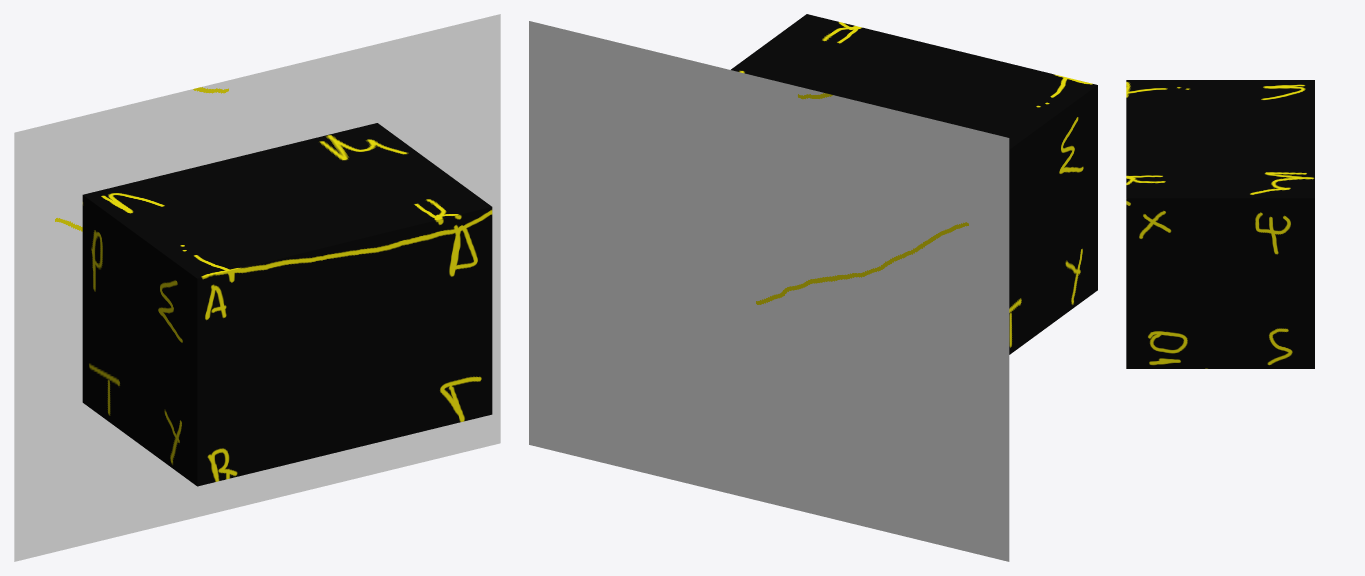
The picture shows the model from 3 angles, left to right: view 1: azimuth 30°, elevation 25°; view 2: azimuth 150°, elevation 25°; view 3: azimuth 270°, elevation 25°; orthographic projection. The views are drawn at different scales.
Parts seen in each view (by area): view 1: mesh_id27, mesh_id1; view 2: mesh_id1, mesh_id27; view 3: mesh_id27.
Part boxes in pixels (x1,y1,x2,y2): mesh_id27: (82,123,492,486); mesh_id1: (14,14,500,561); mesh_id1: (529,21,1009,561); mesh_id27: (731,14,1097,354); mesh_id27: (1126,80,1314,368).
Size of the model in its own units: 0.71 by 0.599 by 0.345.
Materials: 2 (2 with a texture image).
